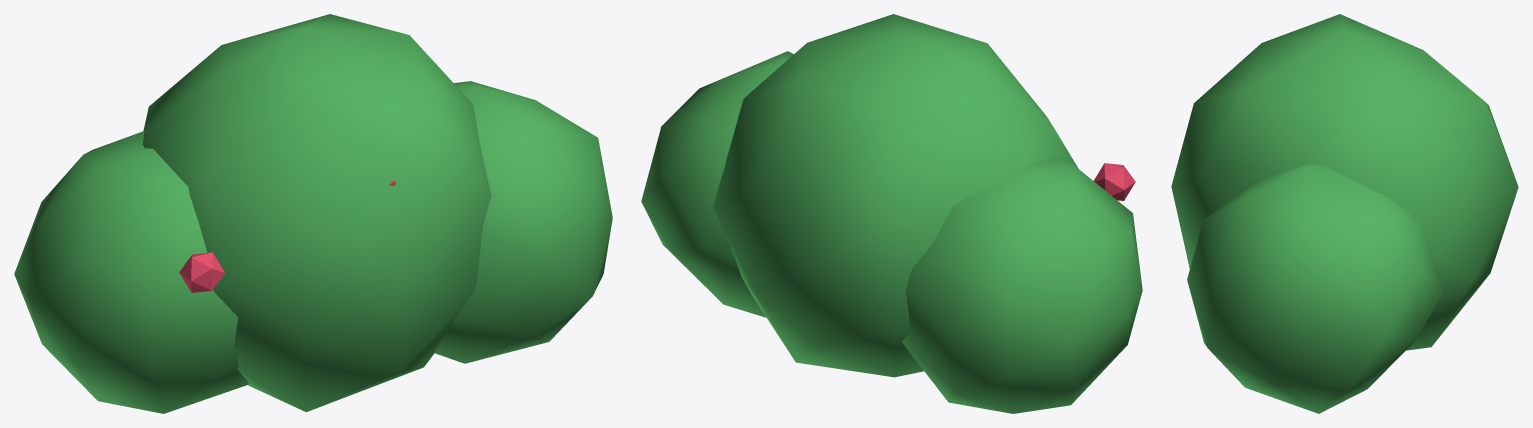
File: stage1_bush.glb
3 renders of one model, left to right at view 1: azimuth 30°, elevation 25°; view 2: azimuth 150°, elevation 25°; view 3: azimuth 270°, elevation 25°, orthographic. The views are drawn at different scales.
Parts seen in each view (by area): view 1: stage1_bush_leaf, stage1_bush_berry; view 2: stage1_bush_leaf, stage1_bush_berry; view 3: stage1_bush_leaf.
Part boxes in pixels (left/top/right/bottom): stage1_bush_leaf: left=14, top=14, right=612, bottom=413; stage1_bush_berry: left=179, top=180, right=395, bottom=292; stage1_bush_leaf: left=641, top=14, right=1142, bottom=413; stage1_bush_berry: left=1094, top=163, right=1135, bottom=200; stage1_bush_leaf: left=1171, top=14, right=1518, bottom=413.
Size of the model in its own units: 0.9221 by 0.6097 by 0.6051.
